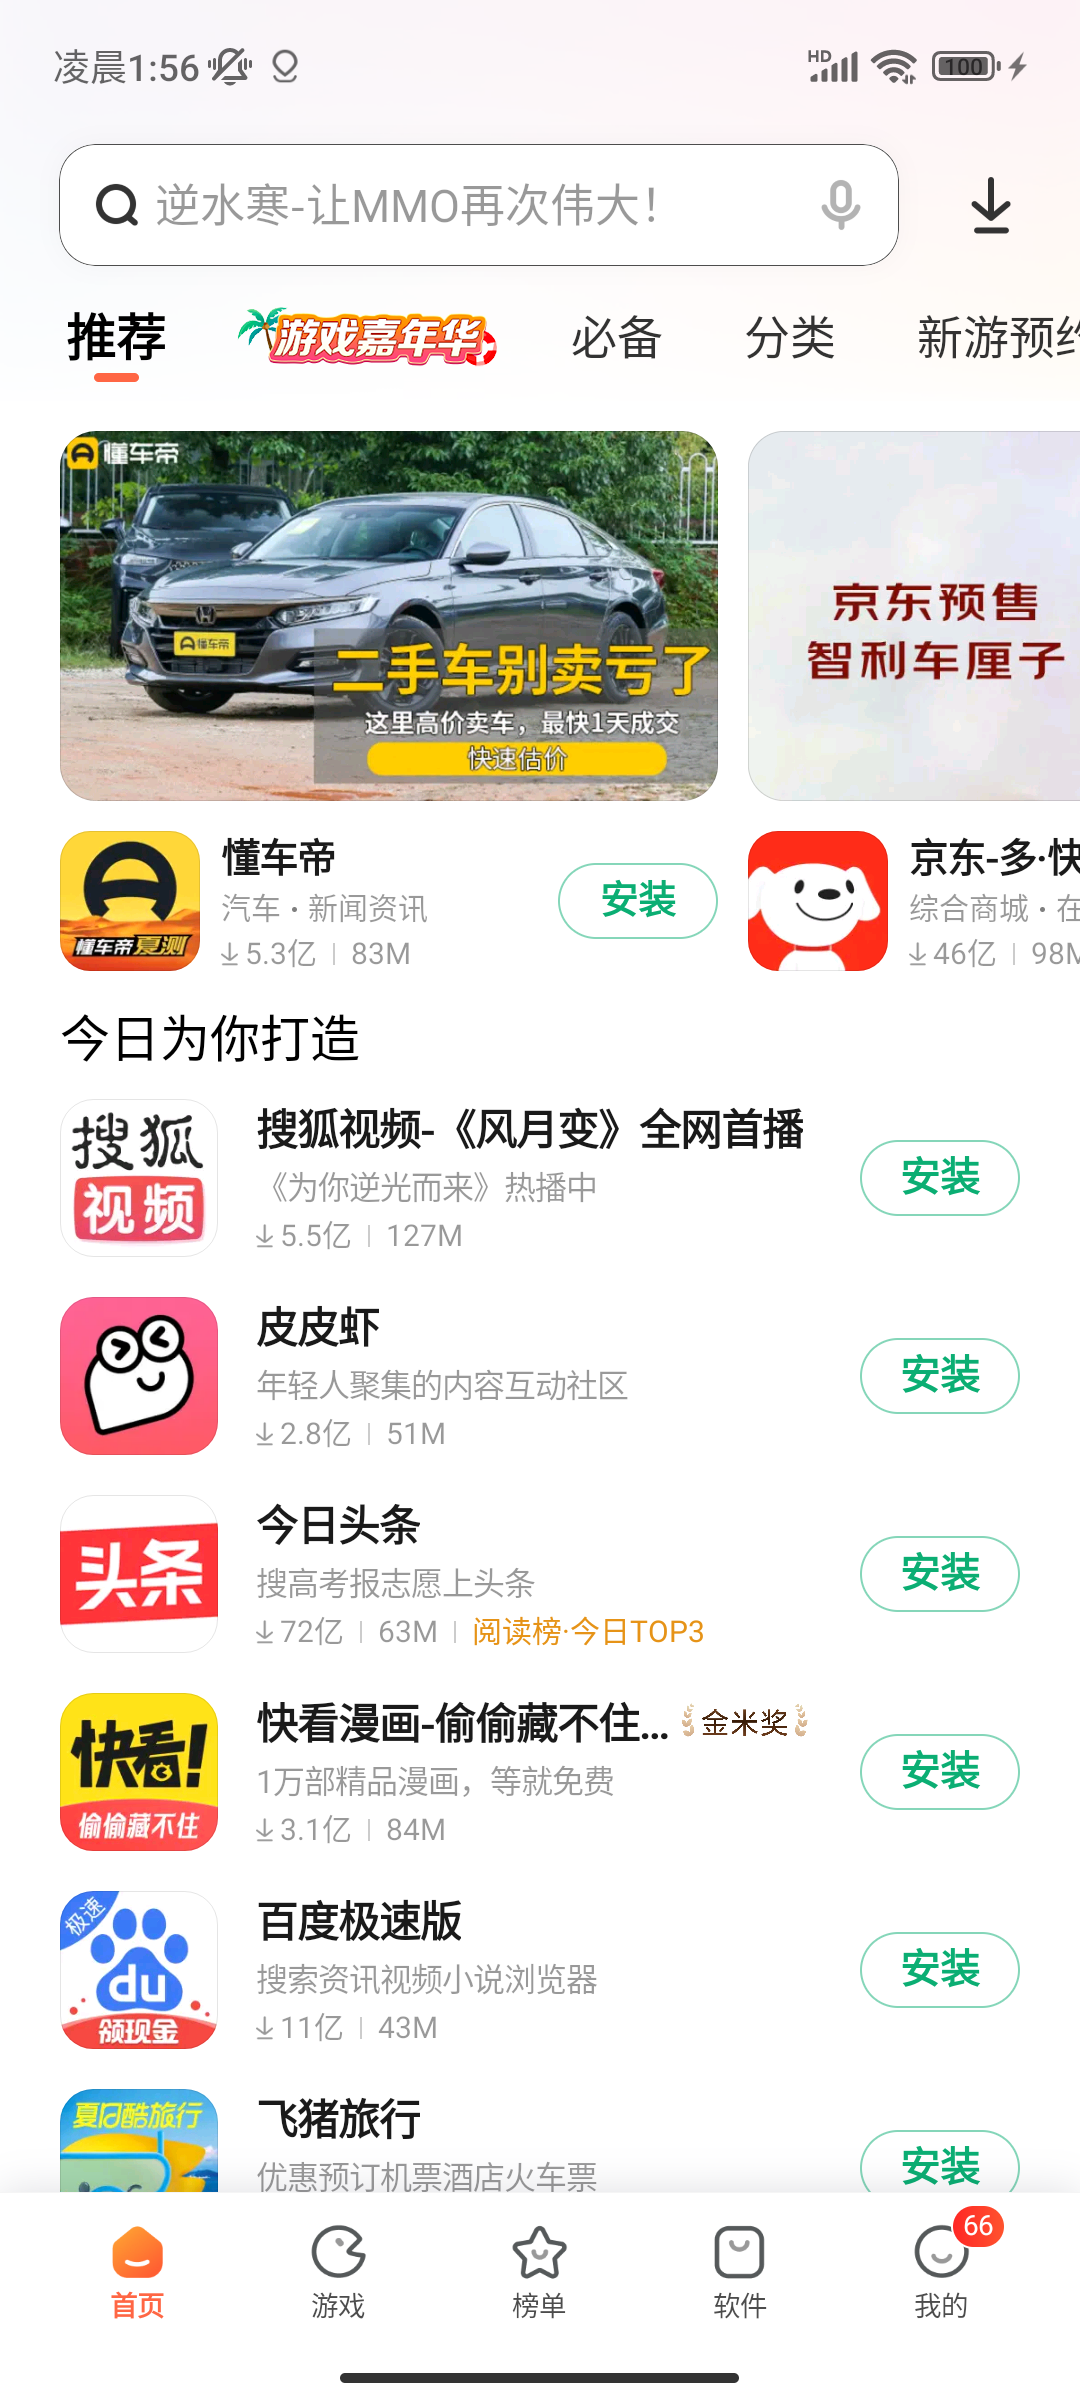ui_group: (52, 430, 721, 810), (47, 1277, 1054, 1483), (47, 1073, 1049, 1264), (54, 1880, 1049, 2069), (52, 1681, 1056, 1858), (49, 1497, 1049, 1665), (52, 823, 733, 995), (883, 2203, 1030, 2353), (90, 2209, 197, 2362), (482, 2209, 595, 2348), (285, 2212, 395, 2353), (690, 2209, 795, 2337)
